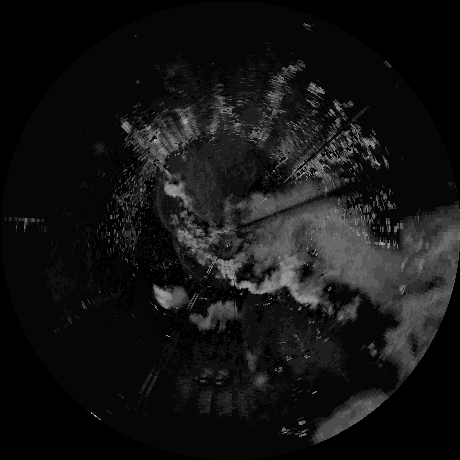frontgust: (155, 182, 174, 233), (170, 236, 189, 268)
